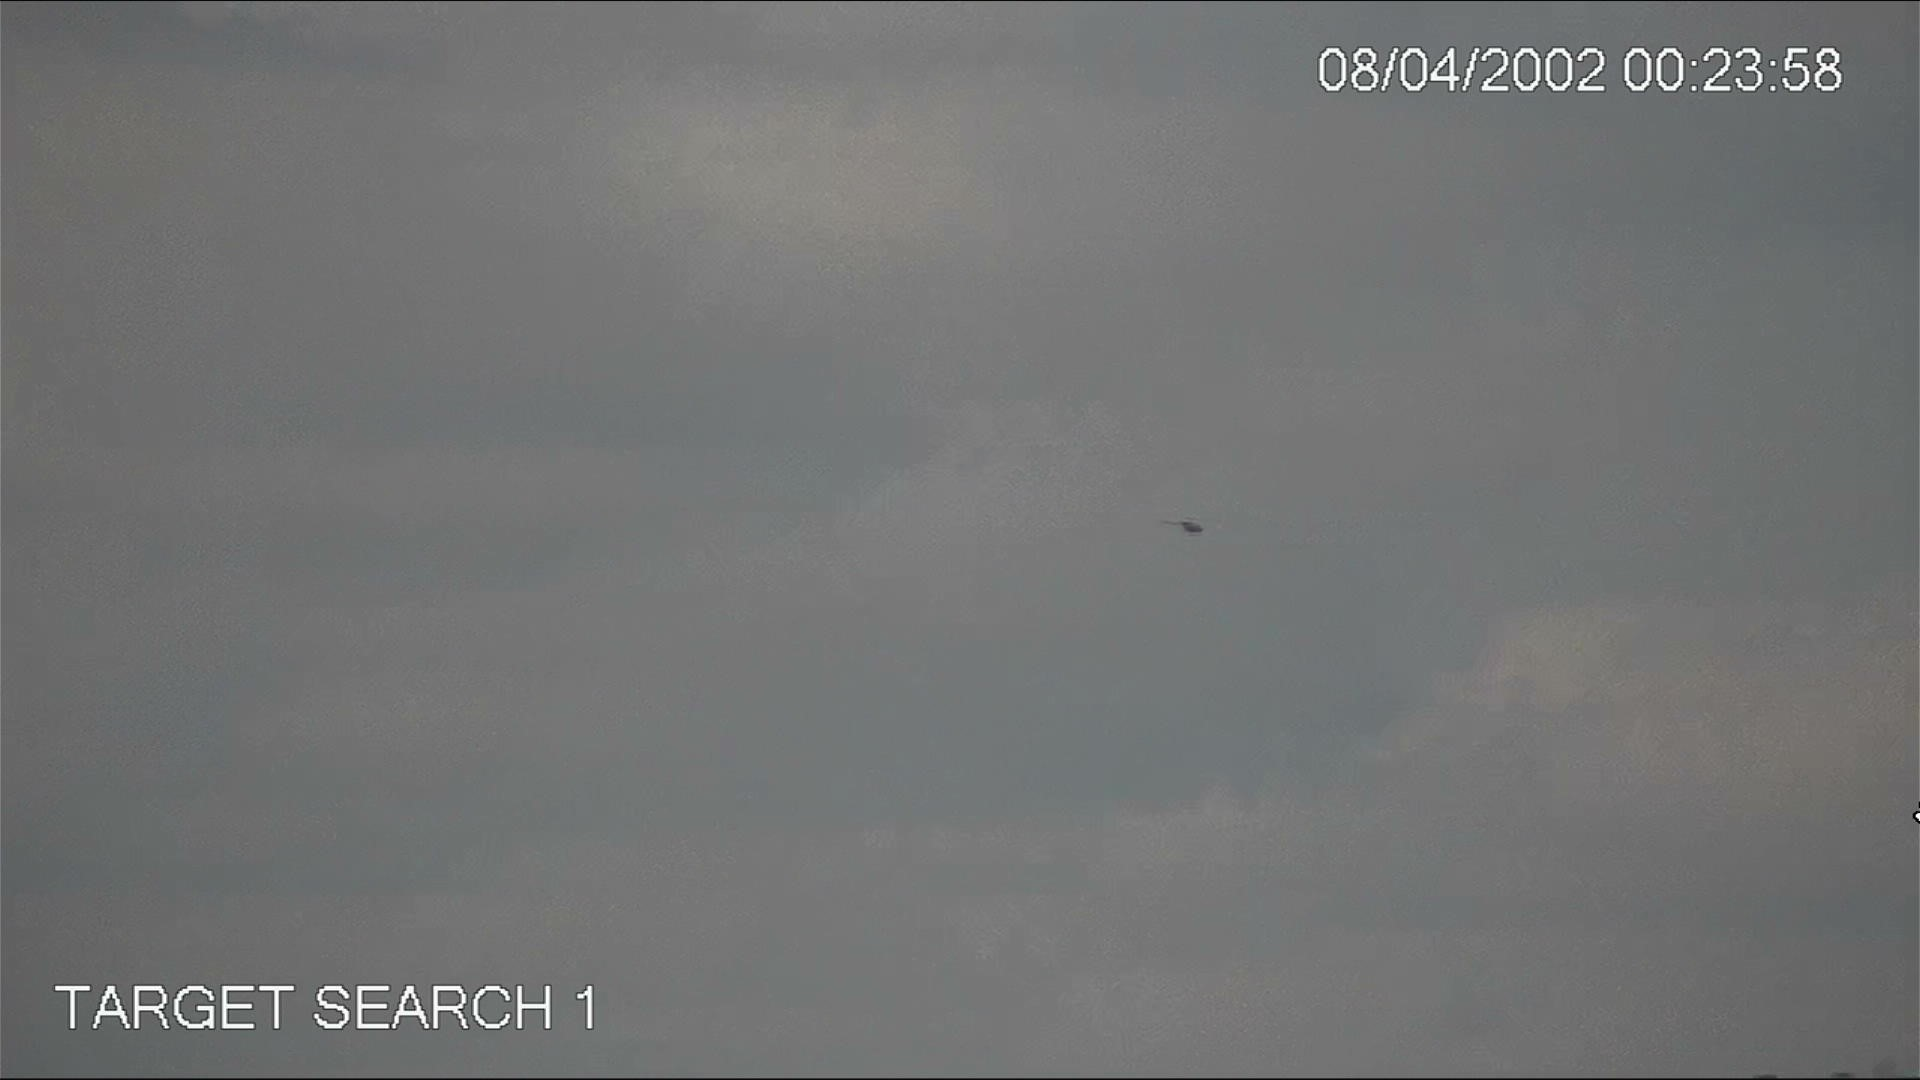SU_30: (1158, 513, 1208, 539)
